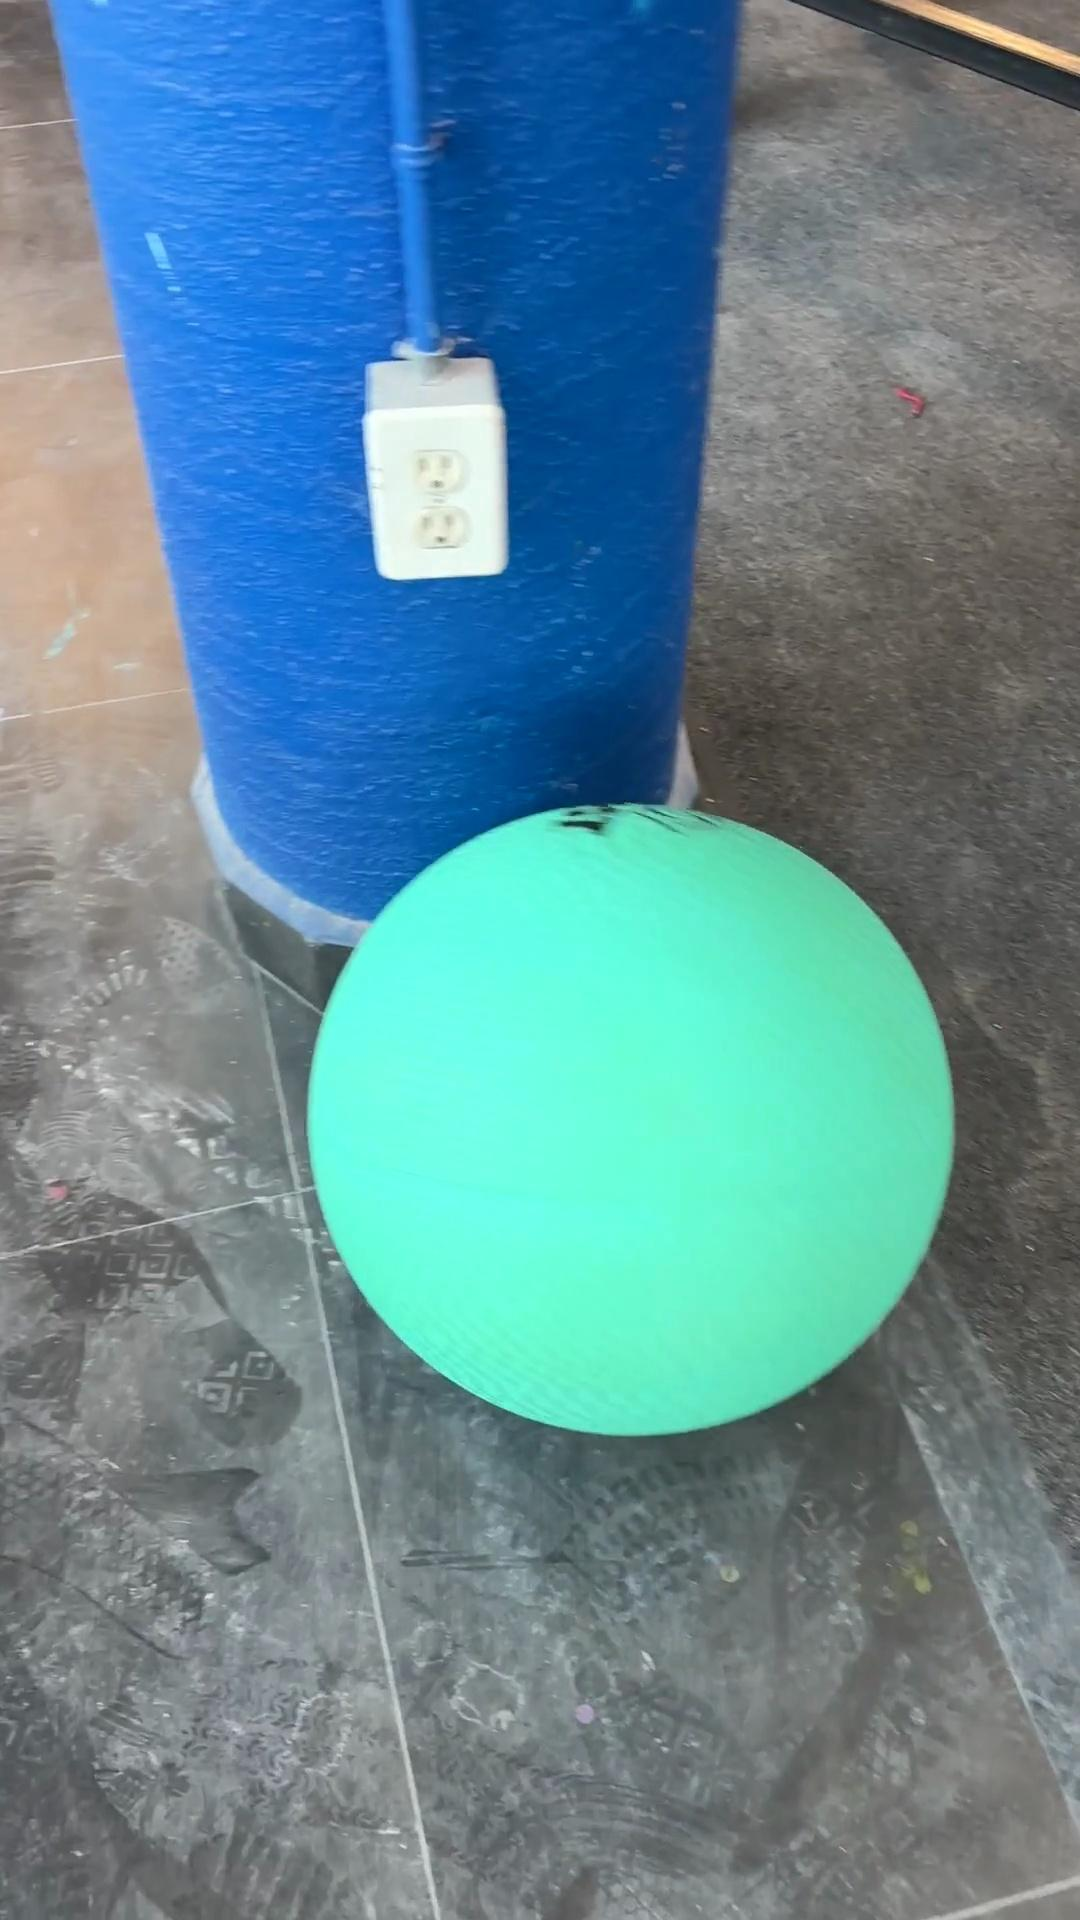ALGAE: (303, 798, 957, 1440)
